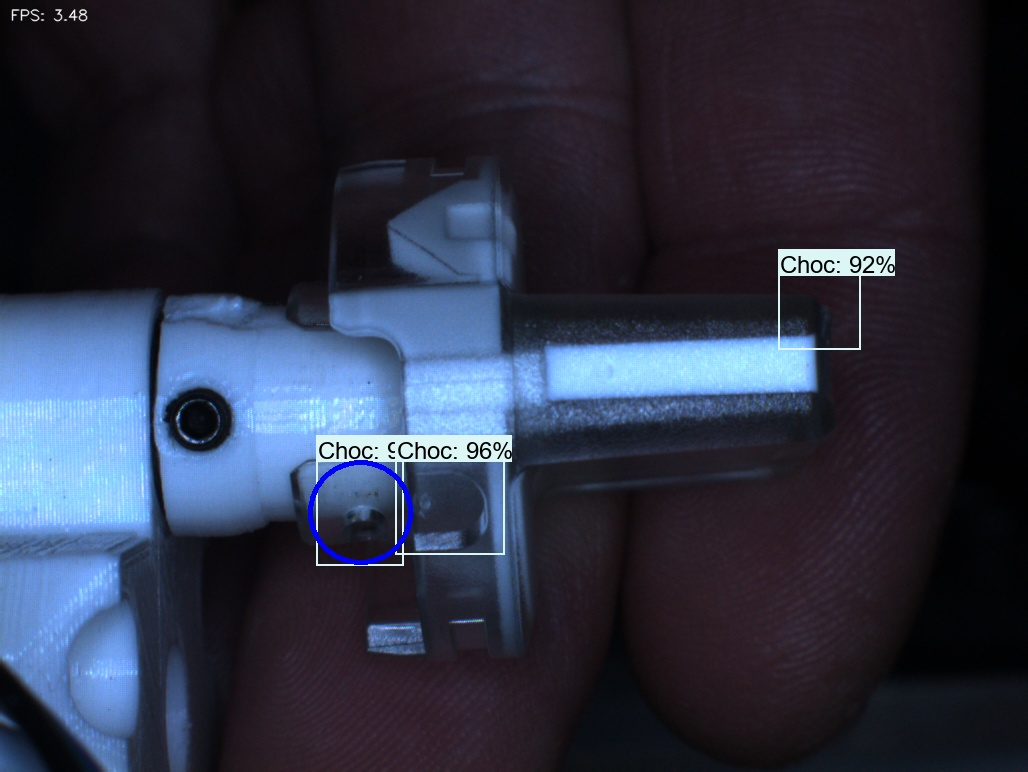DentOk: (356, 188, 431, 288)
